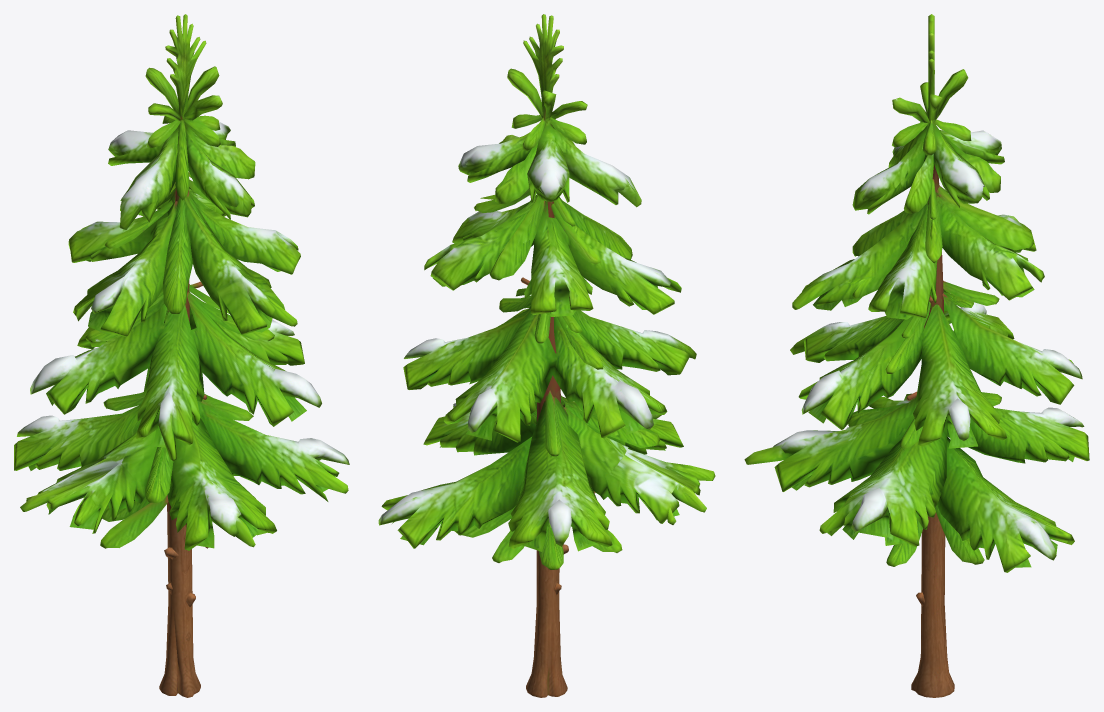
File: tree-3-young.glb
The picture shows the model from 3 angles, left to right: view 1: azimuth 30°, elevation 25°; view 2: azimuth 150°, elevation 25°; view 3: azimuth 270°, elevation 25°; orthographic projection.
Visible parts, largest first — view 1: tripo_node_96d539be-3951-42ab-a034-1061cd70e602; view 2: tripo_node_96d539be-3951-42ab-a034-1061cd70e602; view 3: tripo_node_96d539be-3951-42ab-a034-1061cd70e602.
Part boxes in pixels (x1,y1,x2,y2): tripo_node_96d539be-3951-42ab-a034-1061cd70e602: [14, 14, 349, 697]; tripo_node_96d539be-3951-42ab-a034-1061cd70e602: [378, 14, 715, 697]; tripo_node_96d539be-3951-42ab-a034-1061cd70e602: [744, 14, 1089, 697].
Bounding box in the file's own units: 0.4538 × 1 × 0.4646.
1 material, 1 textured.
